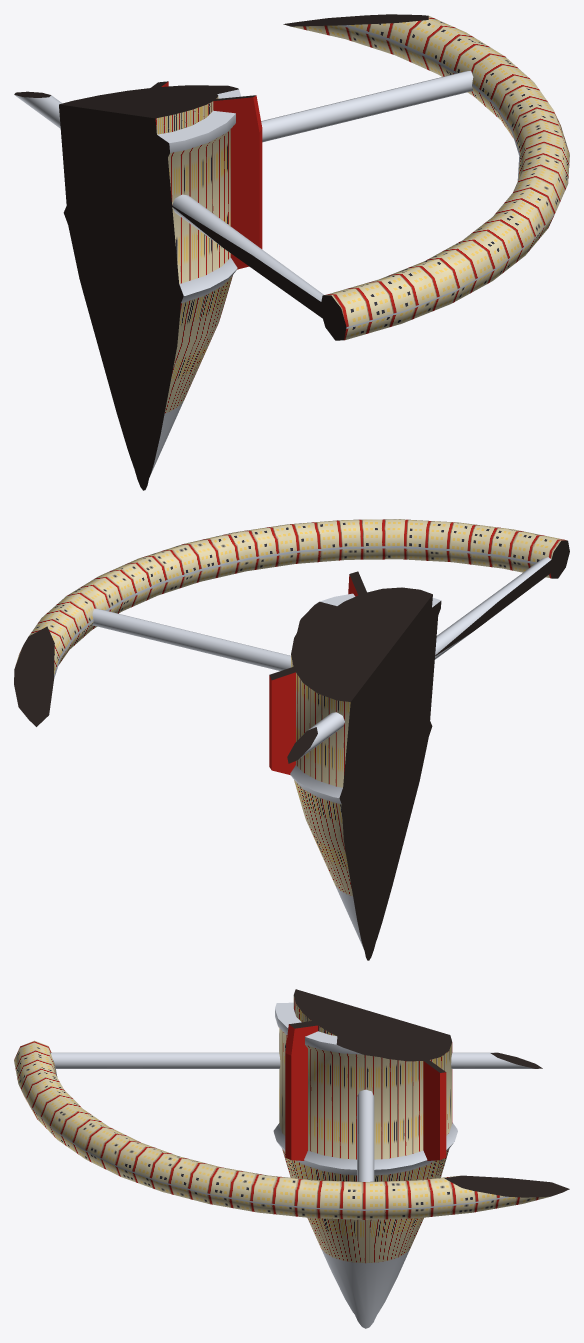
The model's file is guard_station_debris5.obj.
3 renders of one model, top to bottom at view 1: azimuth 30°, elevation 25°; view 2: azimuth 150°, elevation 25°; view 3: azimuth 270°, elevation 25°, orthographic. The views are drawn at different scales.
Parts seen in each view (by area): view 1: tower, ring, spoke, buttress135; view 2: tower, ring, spoke, buttress45; view 3: tower, ring, spoke, buttress135, buttress45.
Boxes of the visible parts, x1,y1,x2,y2 form: tower: (59, 85, 241, 490); ring: (283, 14, 569, 340); spoke: (14, 71, 473, 318); buttress135: (169, 95, 262, 269); tower: (290, 587, 441, 960); ring: (14, 519, 569, 726); spoke: (92, 557, 552, 763); buttress45: (269, 649, 347, 775); tower: (273, 989, 457, 1328); ring: (14, 1040, 569, 1219); spoke: (51, 1052, 542, 1181); buttress135: (285, 1017, 342, 1160); buttress45: (387, 1033, 446, 1160).
Bounding box in the file's own units: 127 × 126 × 193.
4 materials, 1 textured.
